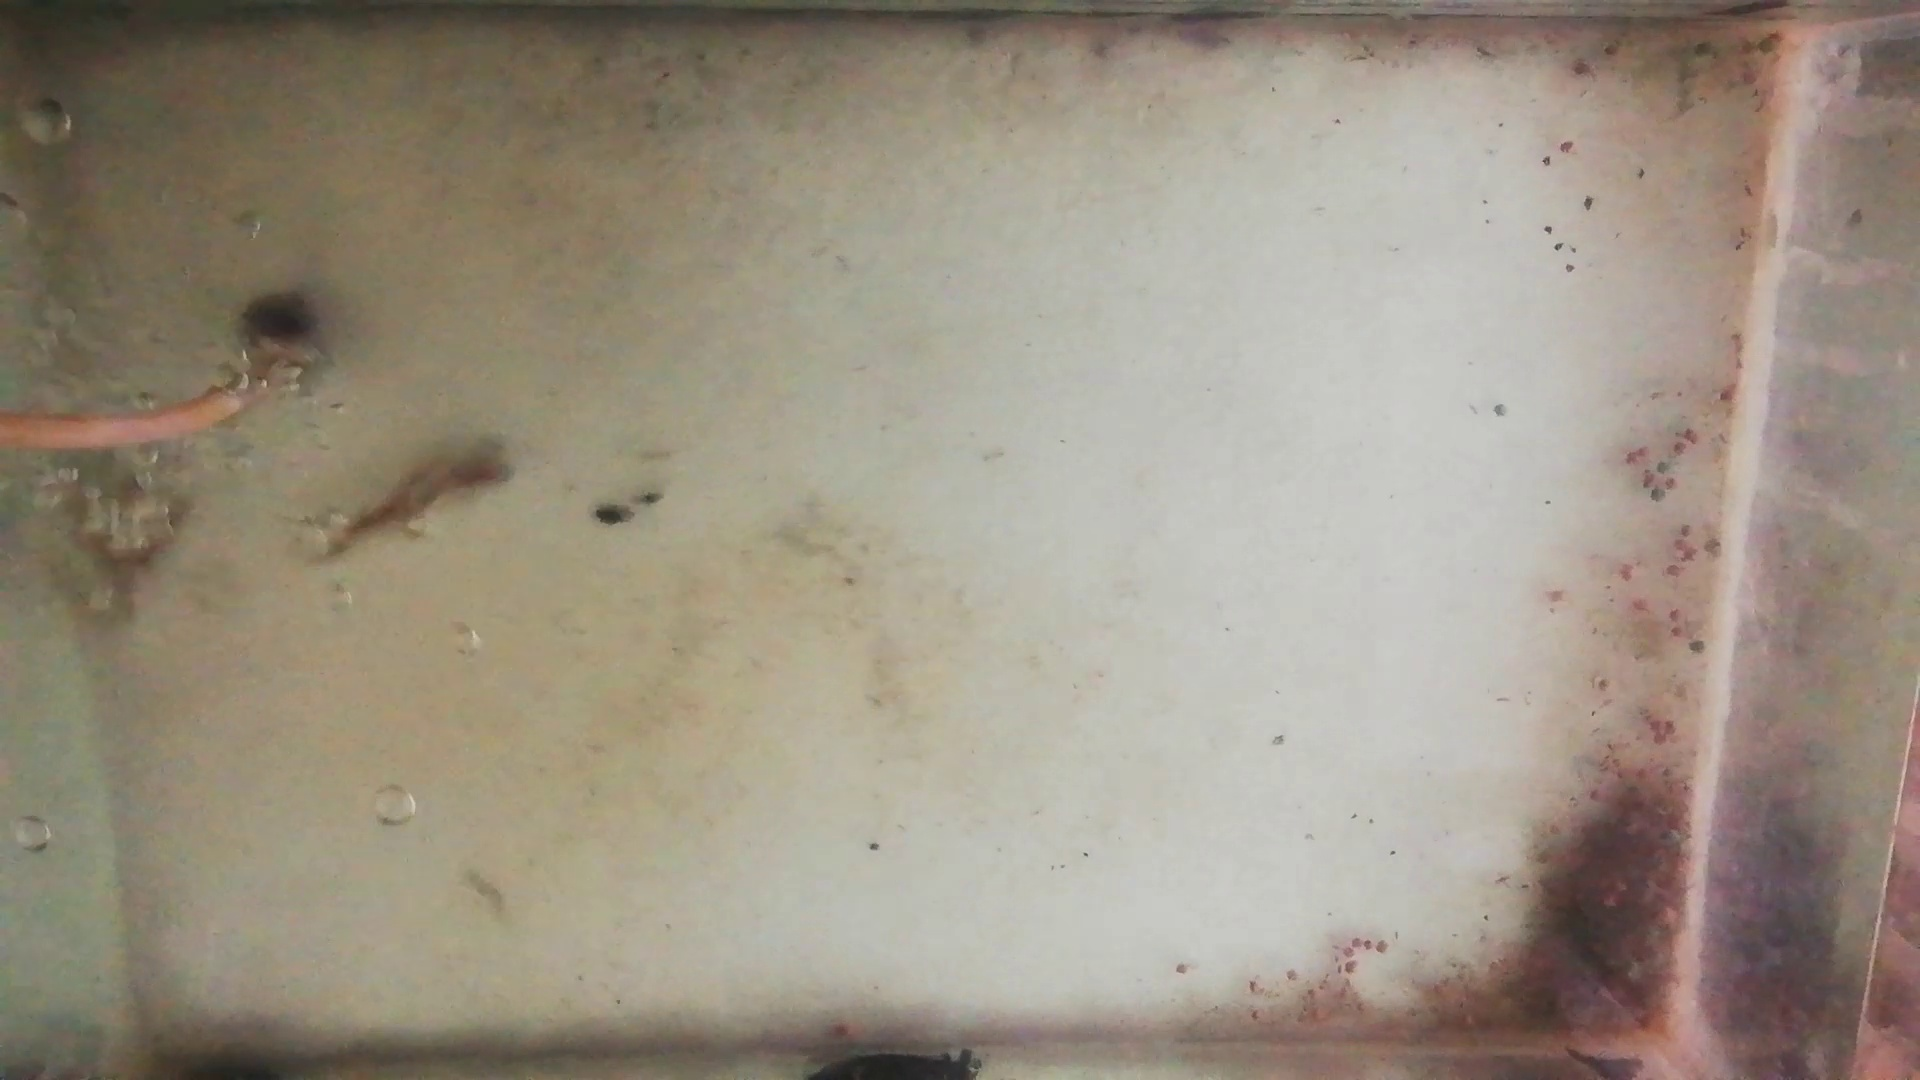fish: (313, 450, 514, 563), (79, 477, 191, 618)
